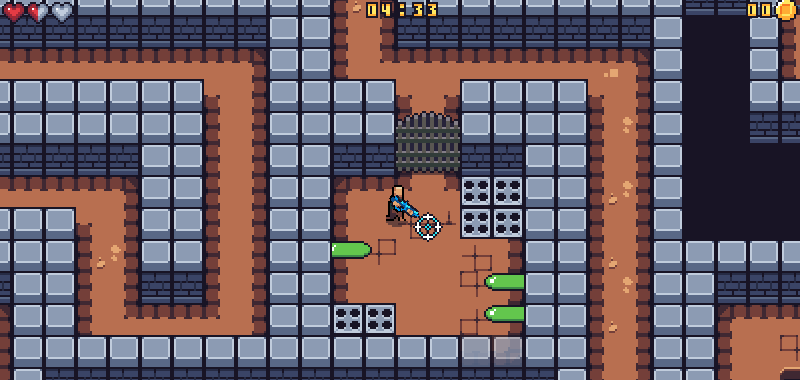trap_door: (392, 111, 465, 173)
trap_off: (462, 177, 524, 237), (332, 302, 396, 336)
